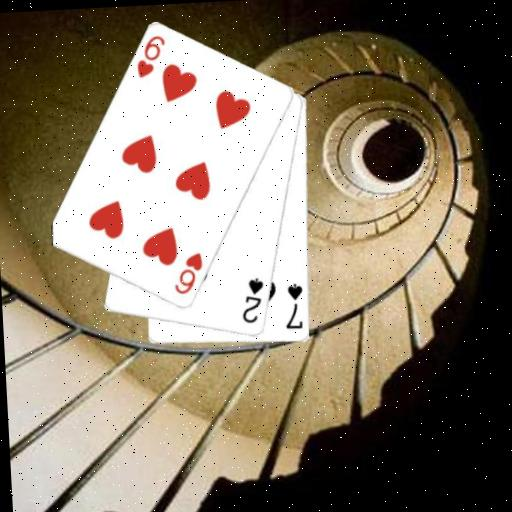2S: (238, 274, 268, 326)
6H: (132, 32, 169, 81), (170, 250, 206, 297)
7S: (281, 281, 307, 332)
